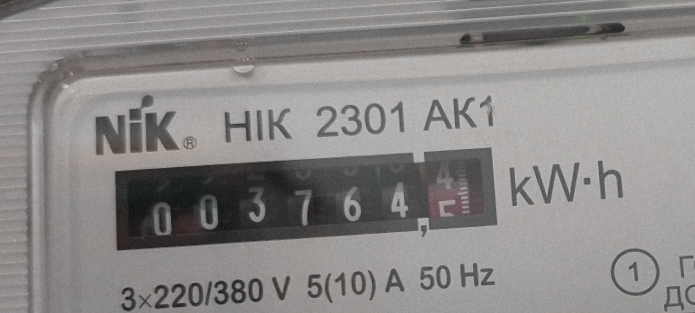0: (195, 190, 220, 231), (148, 197, 174, 236)
3: (243, 183, 268, 224)
4: (387, 178, 409, 219), (432, 157, 456, 190)
5: (435, 196, 458, 219)
6: (340, 183, 363, 223)
7: (291, 184, 317, 227)
screen: (95, 128, 513, 265)
